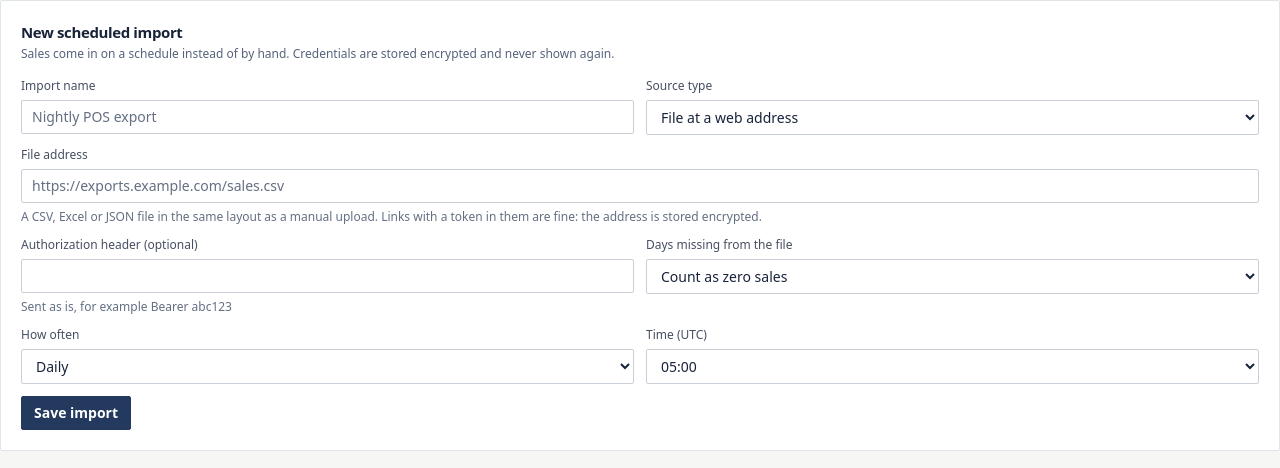
Scenario: new import form › saves a file import and clears the form
The width and height of the screenshot is (1280, 468).
Type "POS" into the field labelled "Import name". click: (328, 116)
box: [21,100,634,134]
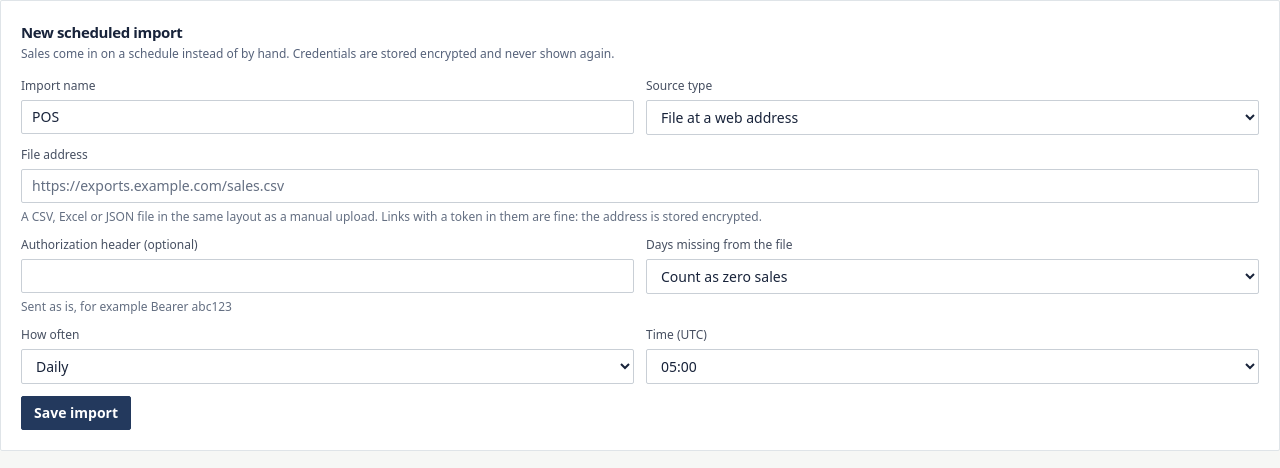
Type "https://exports.example.com/a.csv" into the field labelled "File address". click: (640, 186)
box: [21,168,1259,202]
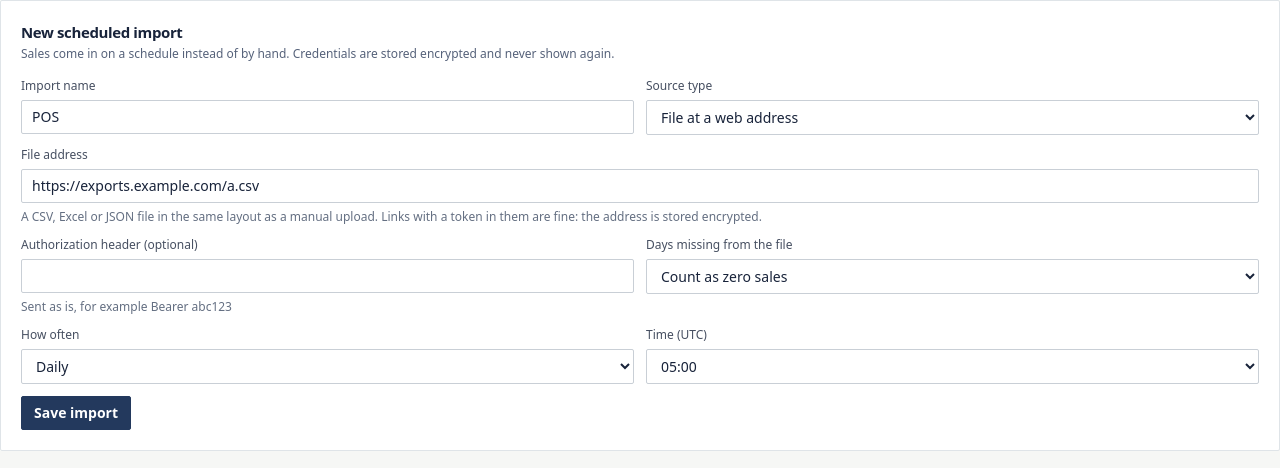
Select "Every hour" in the dropdown labelled "How often". click: (328, 366)
box: [21,348,634,384]
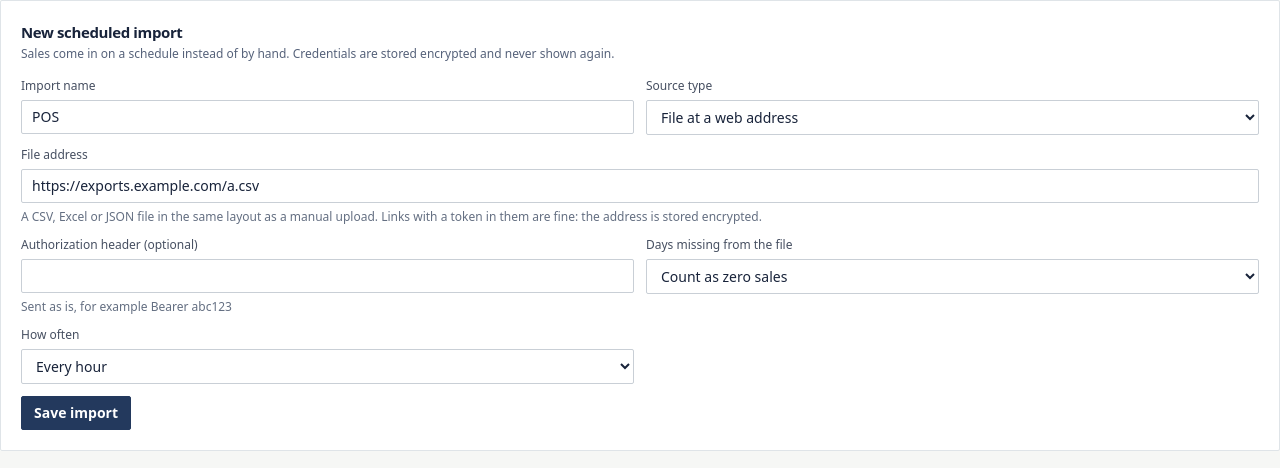
Check: the label labelled "Time (UTC)" is gone
Click the button "Save import". click: click(76, 412)
box: [21,396,131,430]
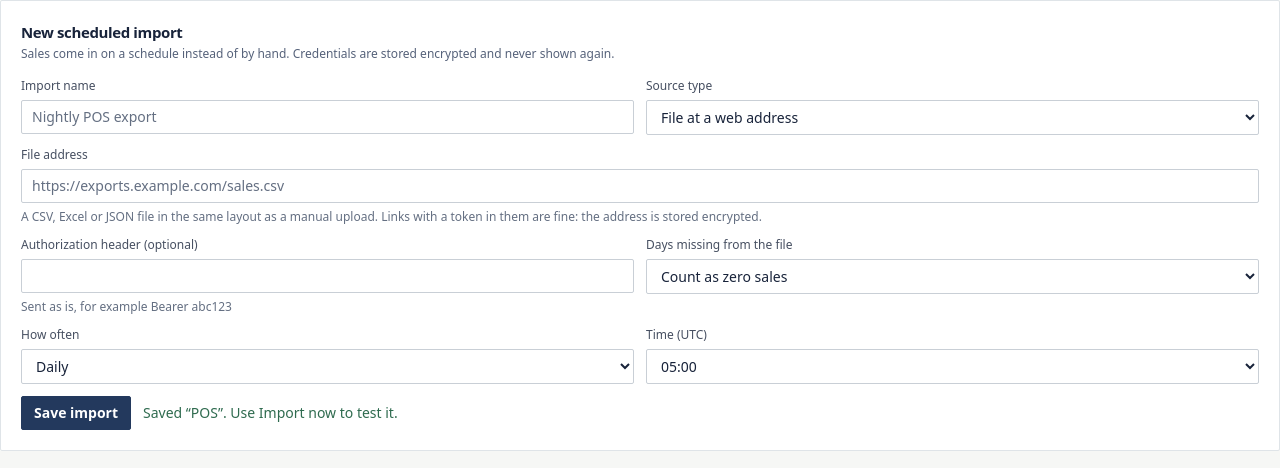
Check: the text "Saved “POS”. Use Import now to test it." is shown, box [143,402,398,422]
Check: the field labelled "Import name" is empty, box [21,100,634,134]
